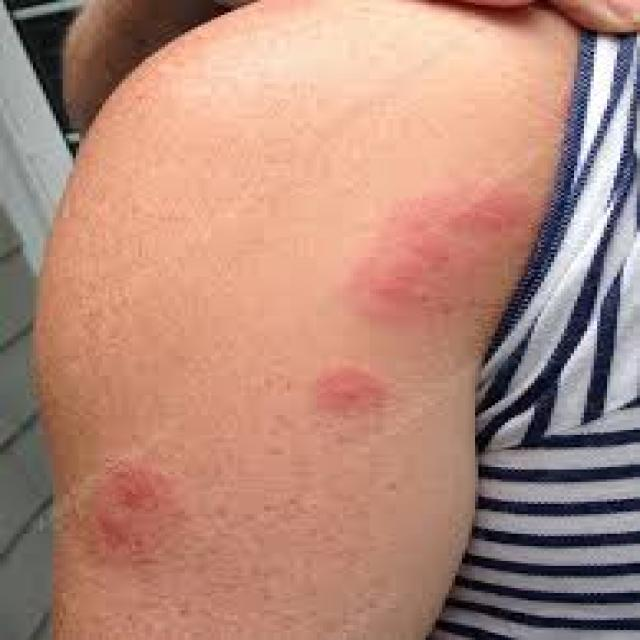tahta-kurusu: (318, 186, 541, 337), (46, 443, 228, 602), (292, 365, 403, 443)
